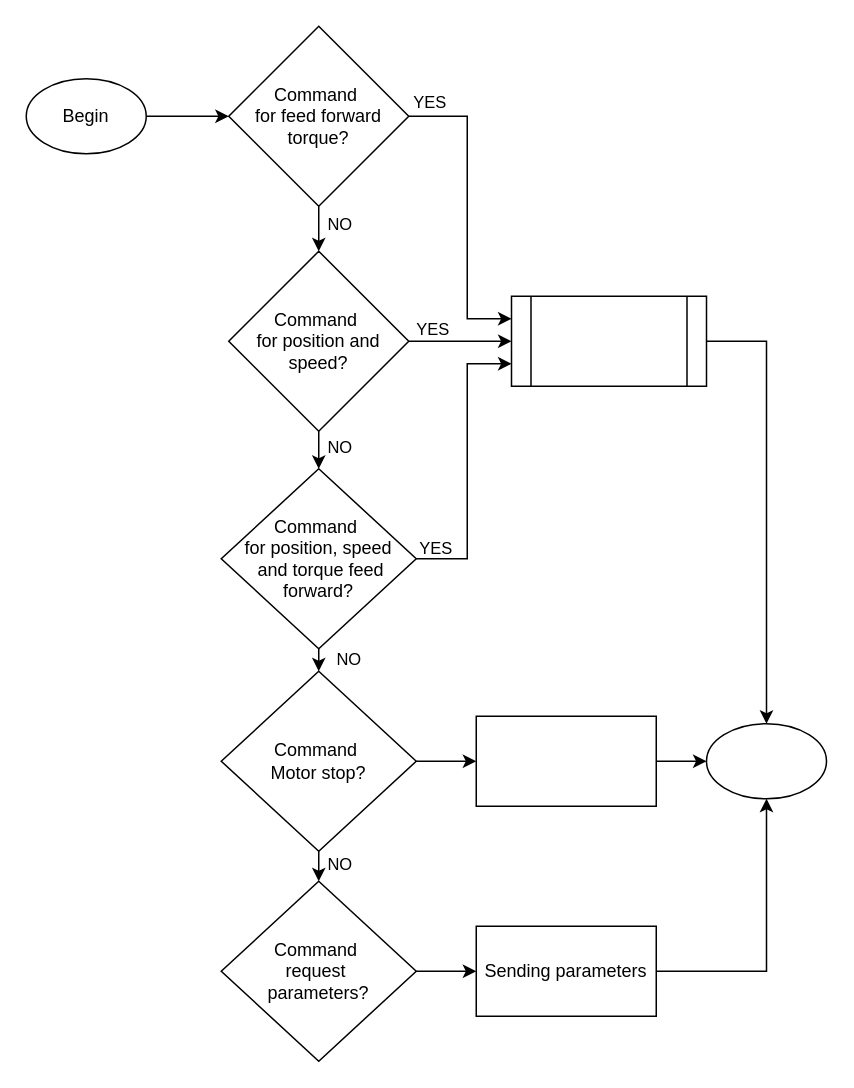
This 854x1088 diagram has some shape labels left out. Each missing label, with the box of its shape:
End: (705, 722, 826, 799)
Motor stop: (475, 715, 656, 806)
Parse data & update parameters: (510, 295, 706, 386)
